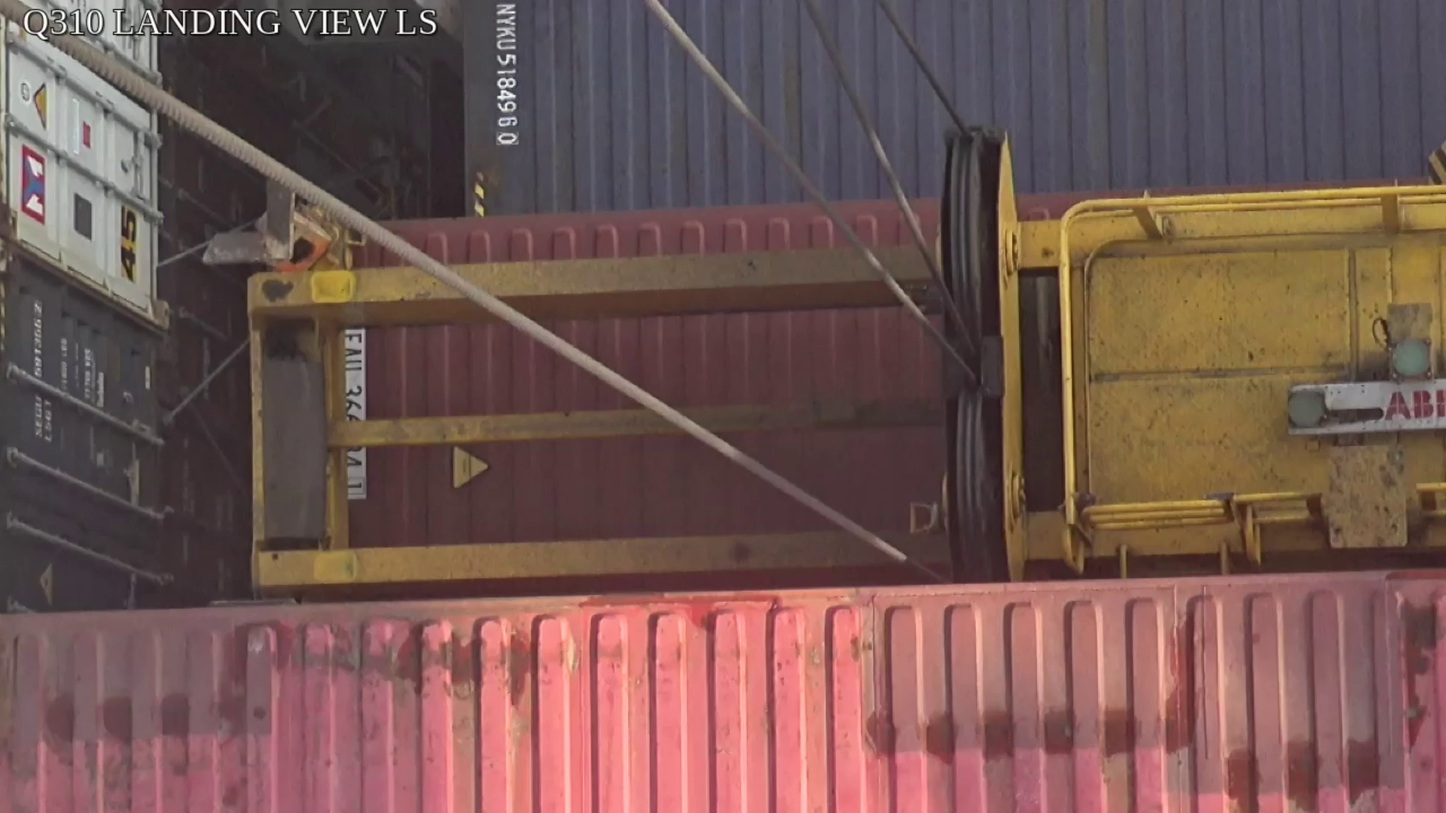aa: (941, 126, 1030, 582)
